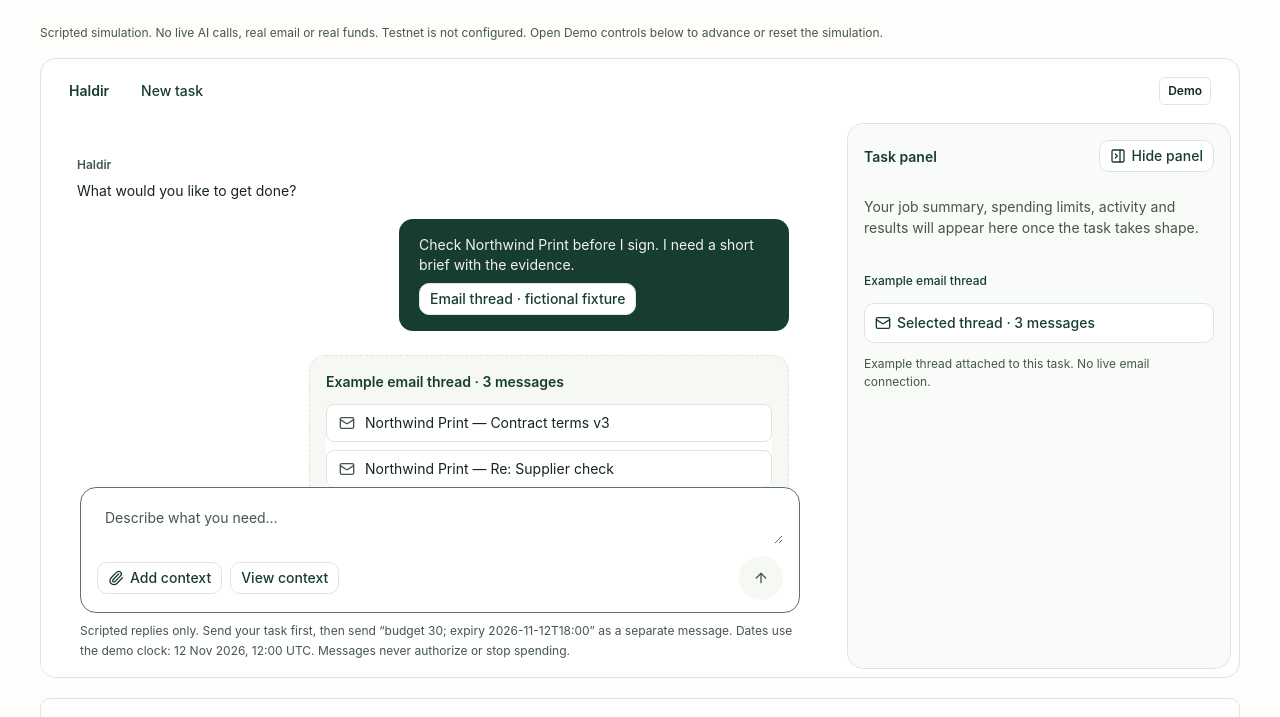
working bar can hide and reopen without clearing the local message draft
Step 1. Type "Keep this local draft" into the text box named "Your message" → (440, 522), box left=97, top=500, right=783, bottom=544
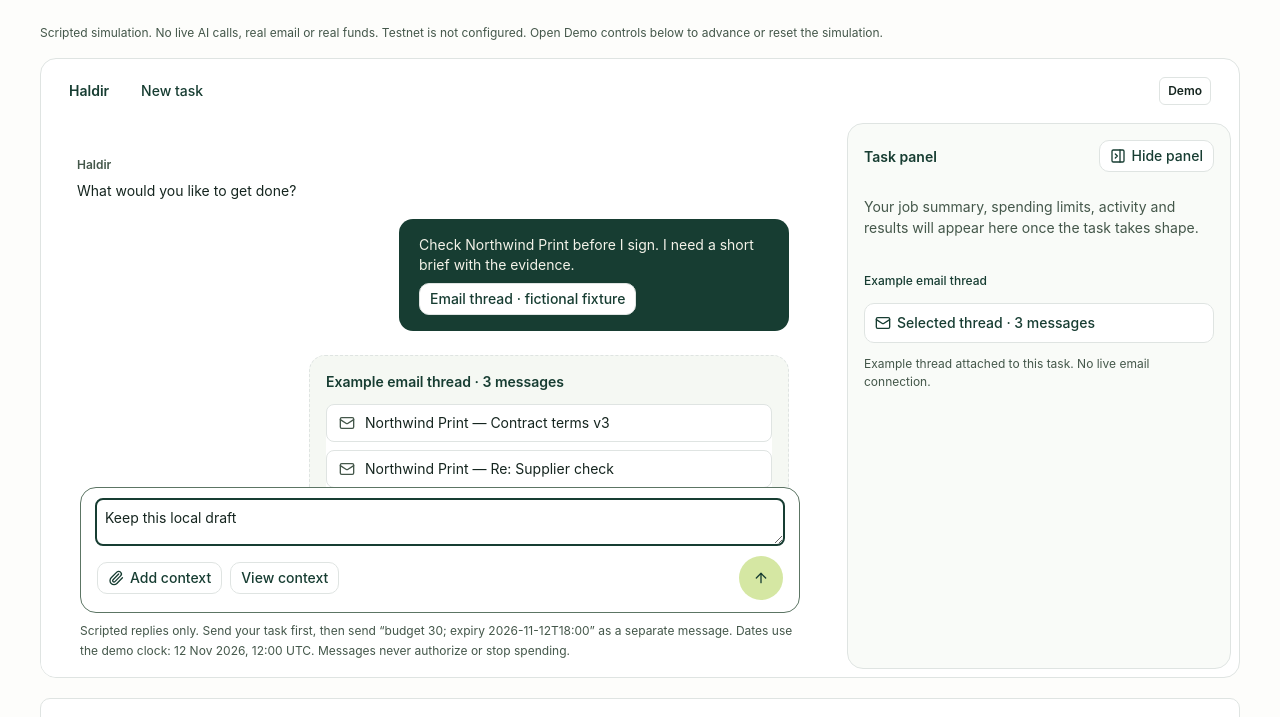
Step 2. Click the button "Hide panel" → (1156, 156), box left=1098, top=140, right=1214, bottom=172
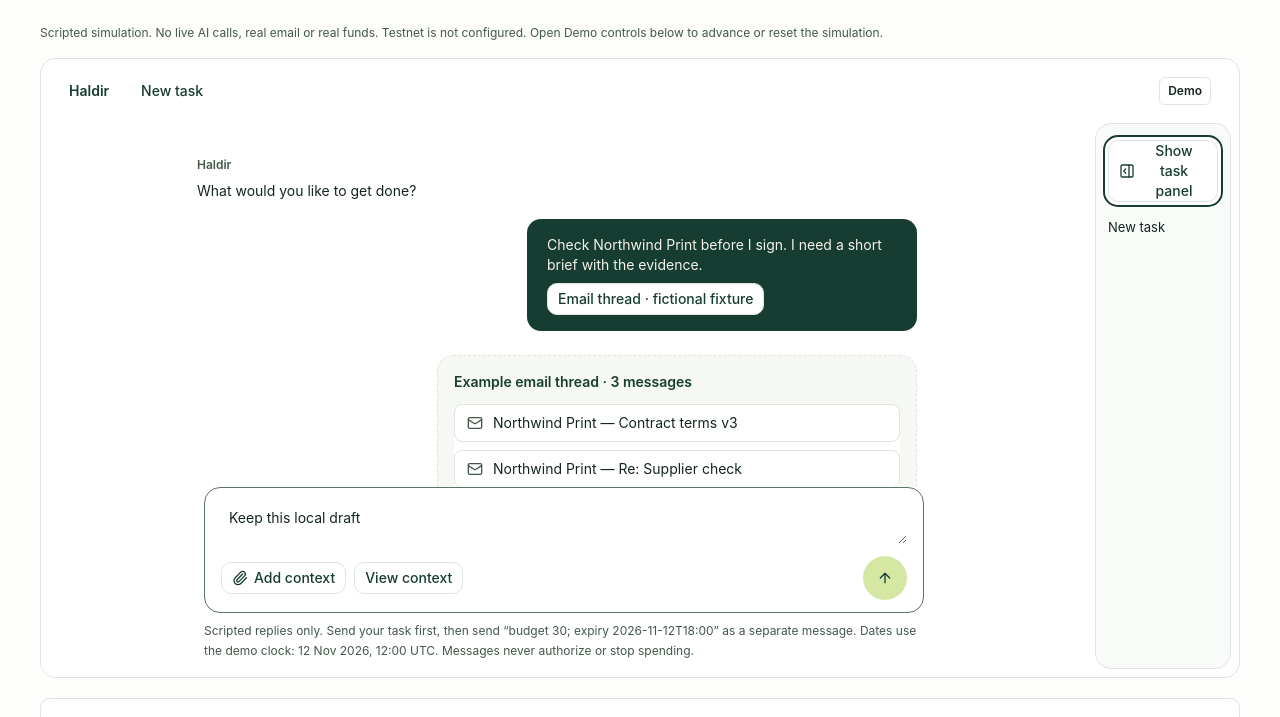
Step 3. Click the button "Show task panel" → (1163, 171), box left=1108, top=140, right=1218, bottom=202
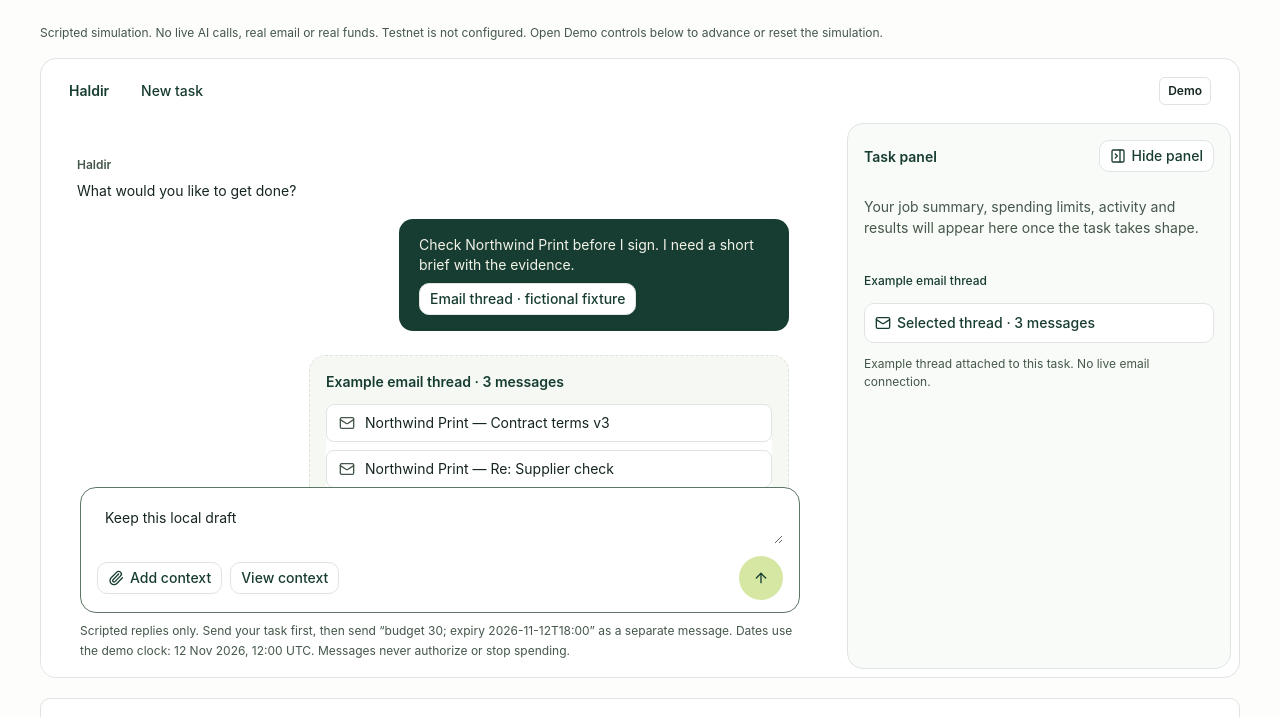
Expected: the button named "Send message" is enabled, left=739, top=556, right=783, bottom=600
Expected: the element named "Working bar" is shown, left=847, top=123, right=1231, bottom=669
